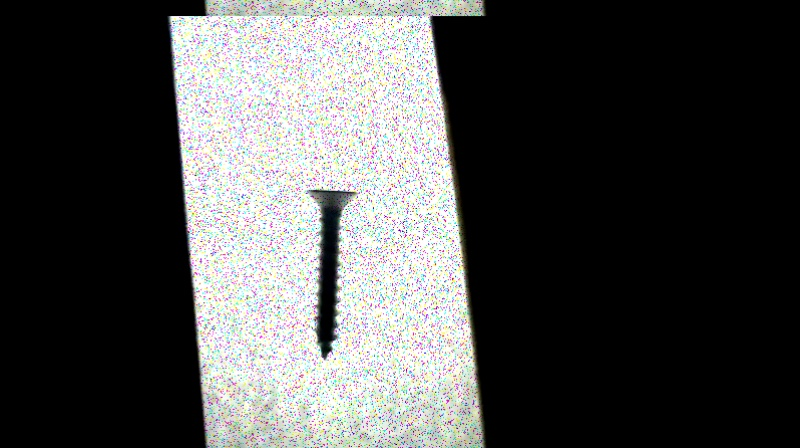S001: (304, 185, 359, 363)
